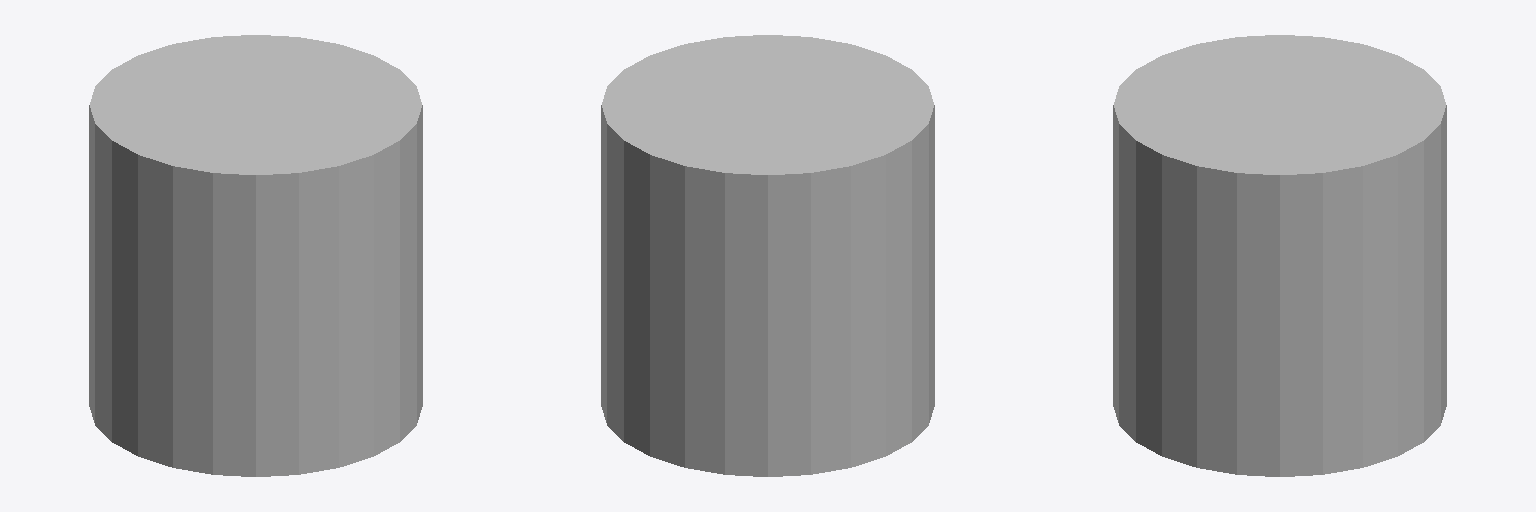
3 renders of one model, left to right at view 1: azimuth 30°, elevation 25°; view 2: azimuth 150°, elevation 25°; view 3: azimuth 270°, elevation 25°, orthographic.
Visible parts, largest first — view 1: 柱体; view 2: 柱体; view 3: 柱体.
Boxes of the visible parts, x1,y1,x2,y2 form: 柱体: [89, 35, 422, 476]; 柱体: [601, 35, 934, 476]; 柱体: [1113, 35, 1446, 476].
Bounding box in the file's own units: 2 × 2 × 2.